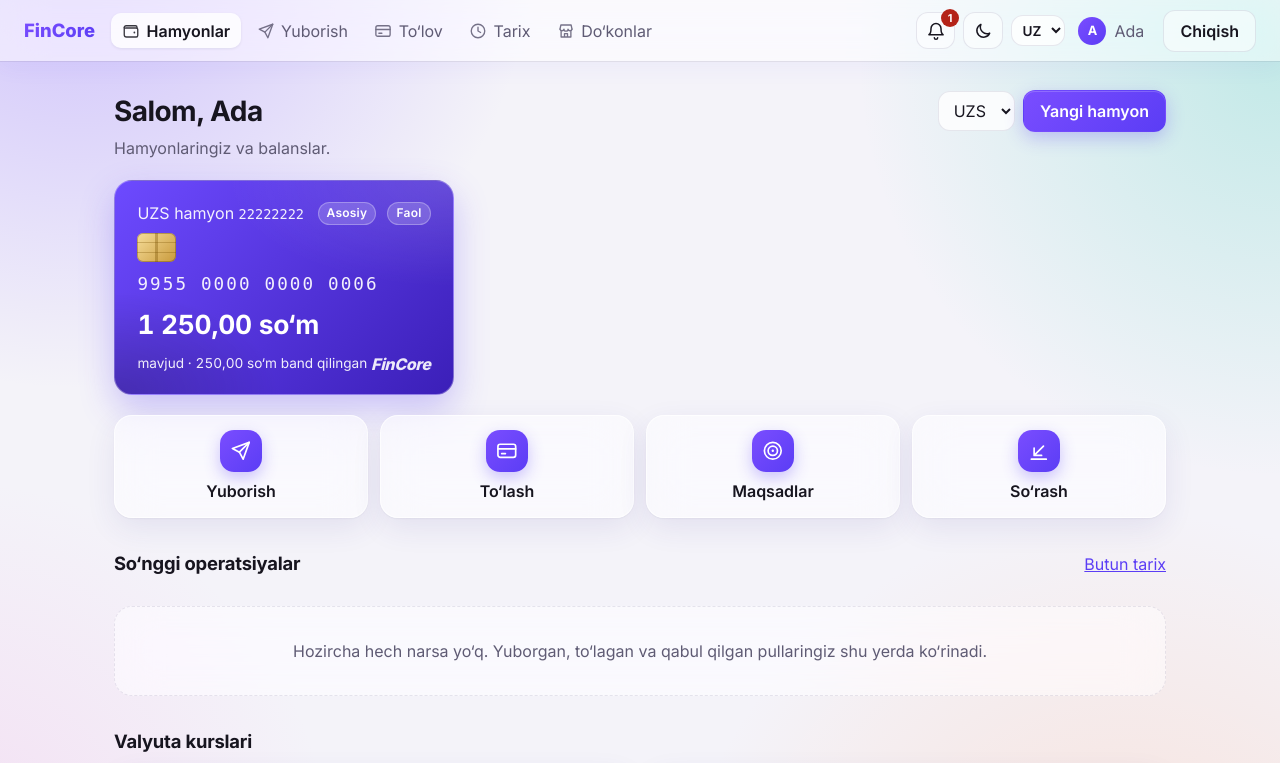
Test: writing to an operator › opens from the bell's 'Support replied'
Click the button named "Bildirishnomalar" at [936, 31], box [916, 12, 956, 49]
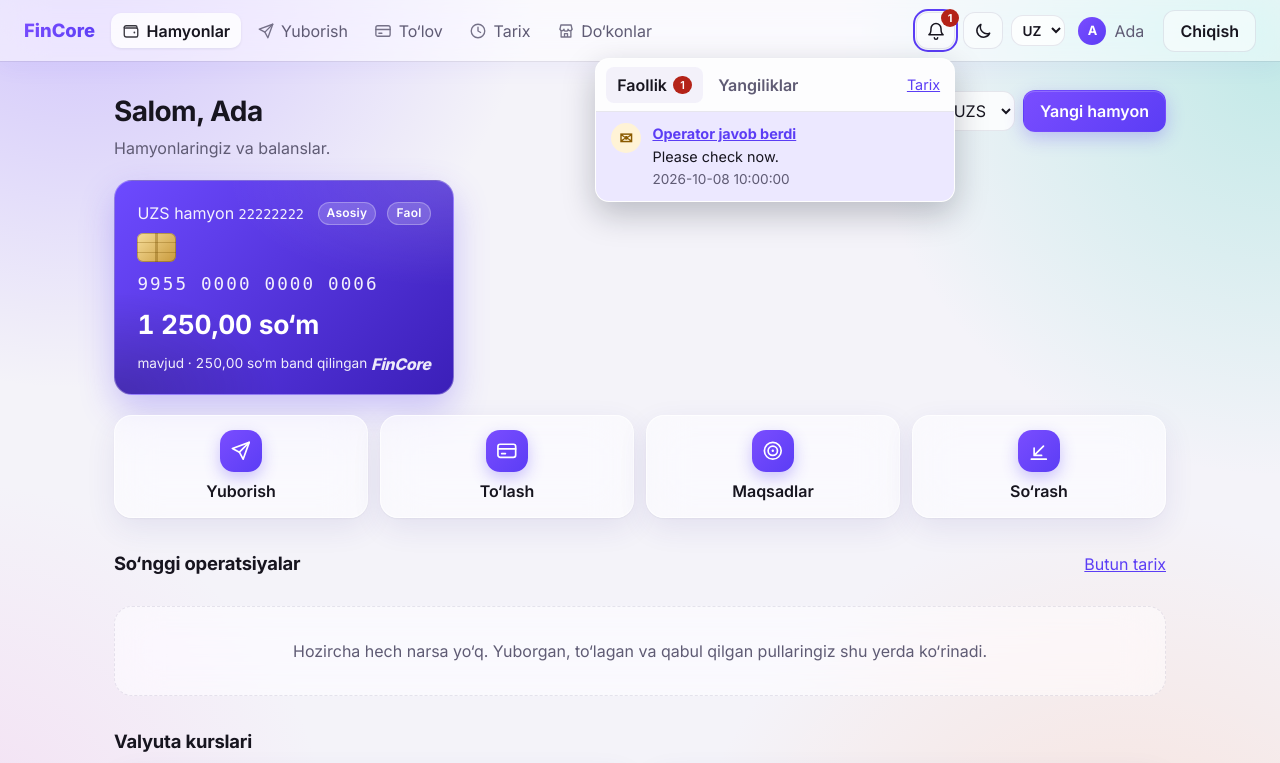
Click the button "Operator javob berdi" at [724, 134], box [652, 123, 796, 144]
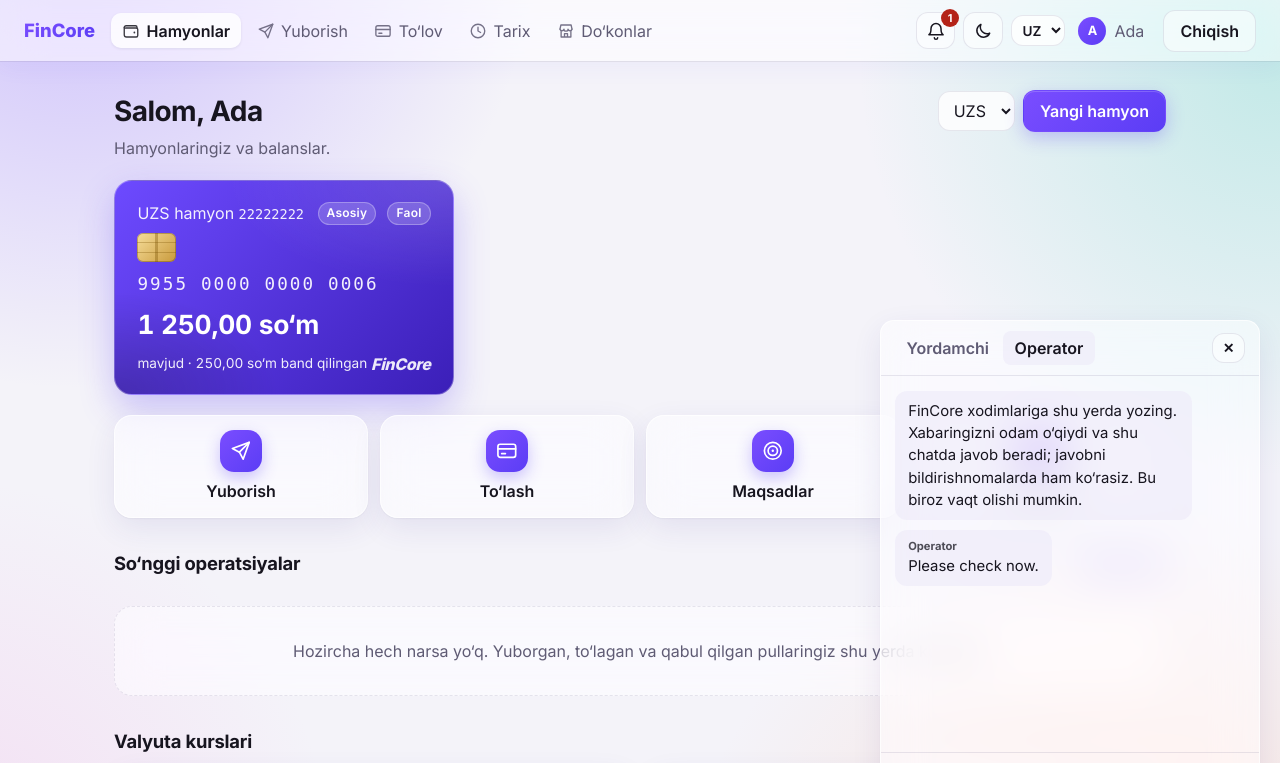
Expected: the text "Please check now." is shown, [908, 557, 1039, 575]
